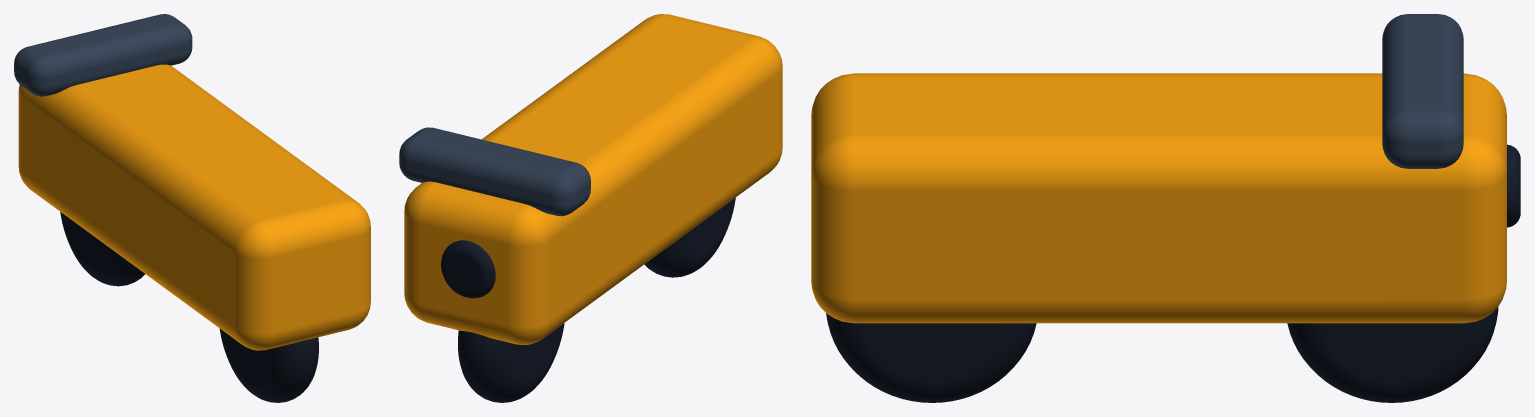
File: motorcycle_model_blender.glb
The picture shows the model from 3 angles, left to right: view 1: azimuth 30°, elevation 25°; view 2: azimuth 150°, elevation 25°; view 3: azimuth 270°, elevation 25°; orthographic projection. The views are drawn at different scales.
Visible parts, largest first — view 1: Motorcycle_002_Body, Motorcycle_002_Handlebar, Vehicle_Sedan_04_Wheel_-45_-64, Vehicle_Sedan_04_Wheel_-45_-64 2; view 2: Motorcycle_002_Body, Motorcycle_002_Handlebar, Vehicle_Sedan_04_Wheel_-45_-64 2, Vehicle_Sedan_04_Wheel_-45_-64, Vehicle_Sedan_04_Wheel_-45_-64 3; view 3: Motorcycle_002_Body, Vehicle_Sedan_04_Wheel_-45_-64 2, Vehicle_Sedan_04_Wheel_-45_-64, Motorcycle_002_Handlebar, Vehicle_Sedan_04_Wheel_-45_-64 3.
Part boxes in pixels (x1=…): Motorcycle_002_Body: x1=18, y1=64, x2=370, y2=350; Motorcycle_002_Handlebar: x1=14, y1=14, x2=192, y2=96; Vehicle_Sedan_04_Wheel_-45_-64: x1=219, y1=328, x2=318, y2=402; Vehicle_Sedan_04_Wheel_-45_-64 2: x1=60, y1=212, x2=144, y2=286; Motorcycle_002_Body: x1=404, y1=14, x2=782, y2=345; Motorcycle_002_Handlebar: x1=399, y1=127, x2=590, y2=216; Vehicle_Sedan_04_Wheel_-45_-64 2: x1=458, y1=323, x2=564, y2=402; Vehicle_Sedan_04_Wheel_-45_-64: x1=644, y1=197, x2=735, y2=277; Vehicle_Sedan_04_Wheel_-45_-64 3: x1=441, y1=240, x2=495, y2=298; Motorcycle_002_Body: x1=811, y1=73, x2=1506, y2=323; Vehicle_Sedan_04_Wheel_-45_-64 2: x1=1287, y1=307, x2=1498, y2=402; Vehicle_Sedan_04_Wheel_-45_-64: x1=826, y1=313, x2=1036, y2=402; Motorcycle_002_Handlebar: x1=1382, y1=14, x2=1463, y2=168; Vehicle_Sedan_04_Wheel_-45_-64 3: x1=1507, y1=144, x2=1520, y2=227.
Size of the model in its own units: 6.4 by 8.84 by 16.72.
